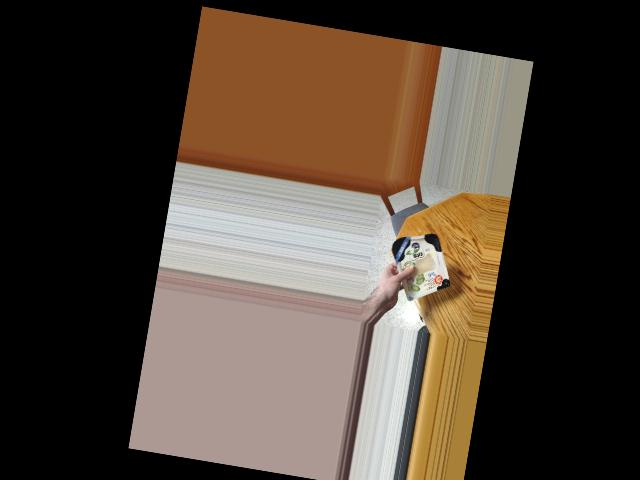cheese: (381, 226, 454, 299)
